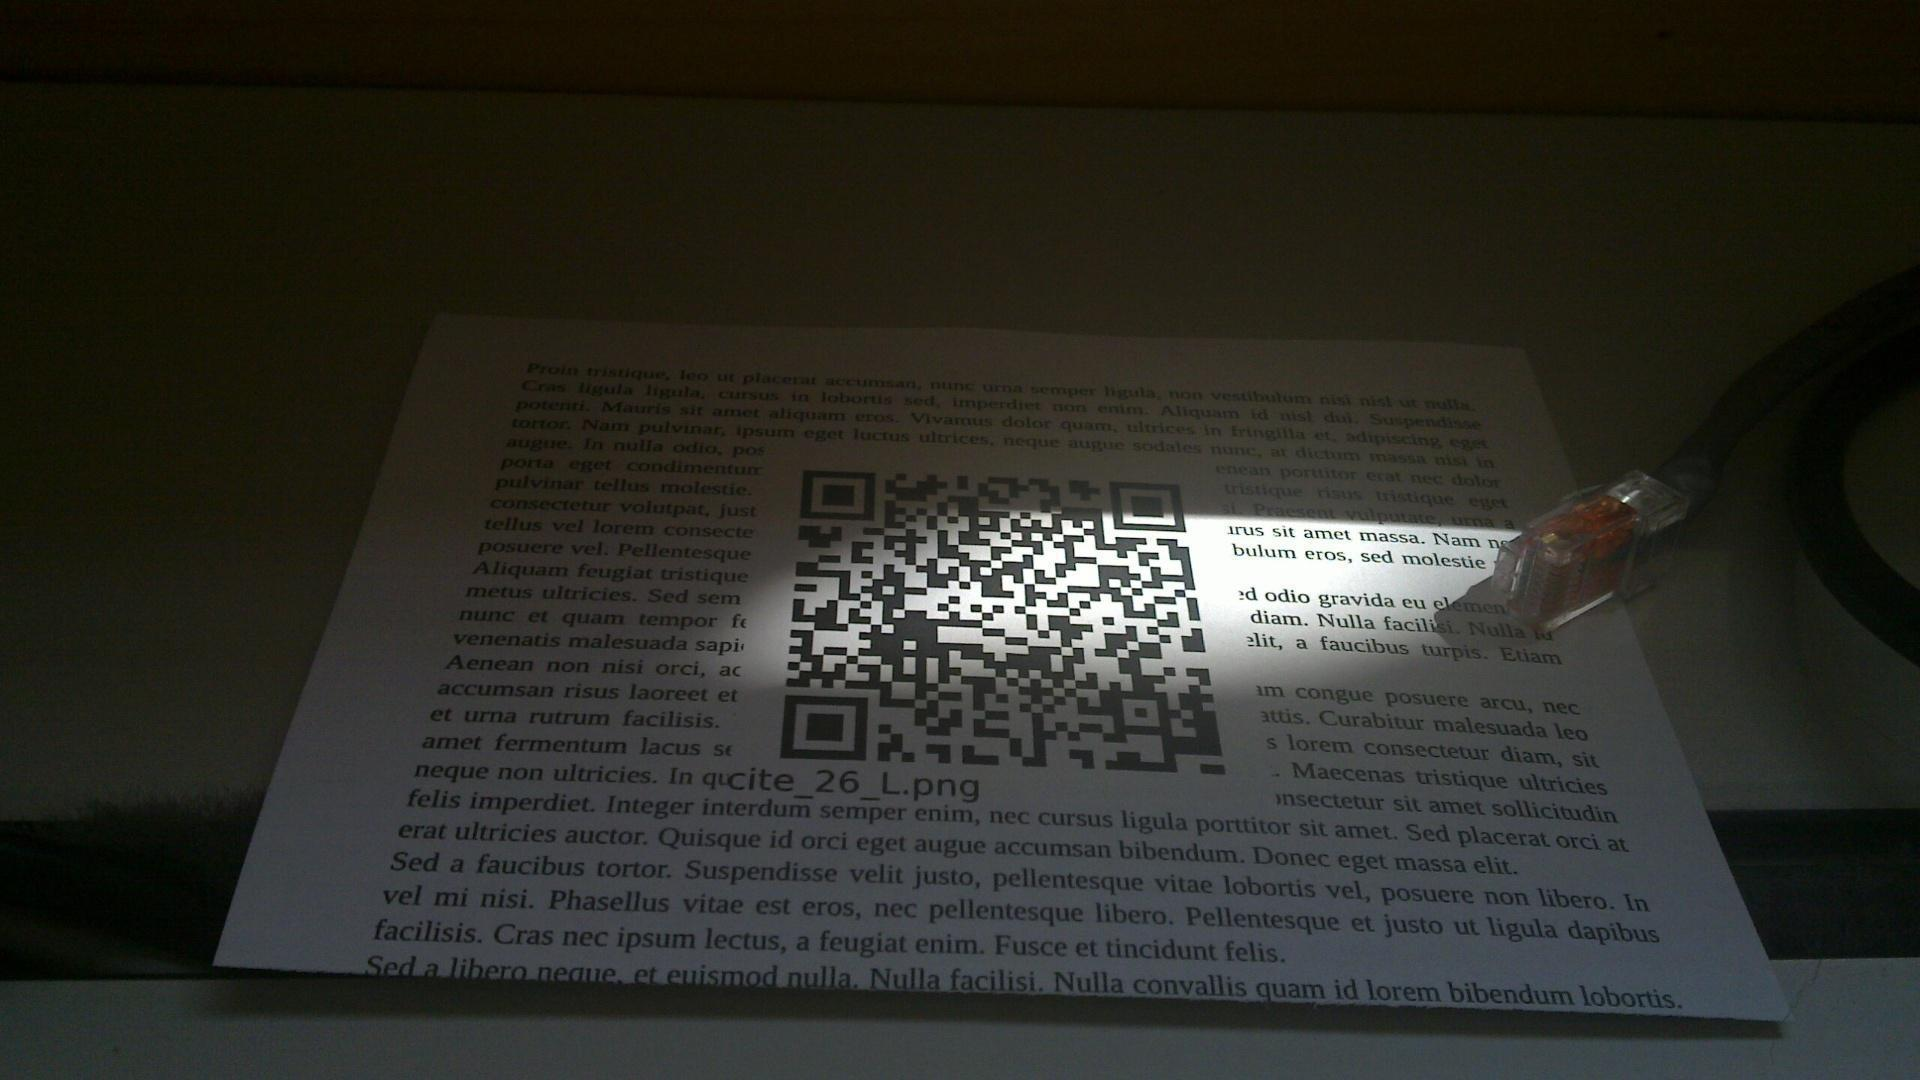qr_code: (779, 468, 1226, 775)
